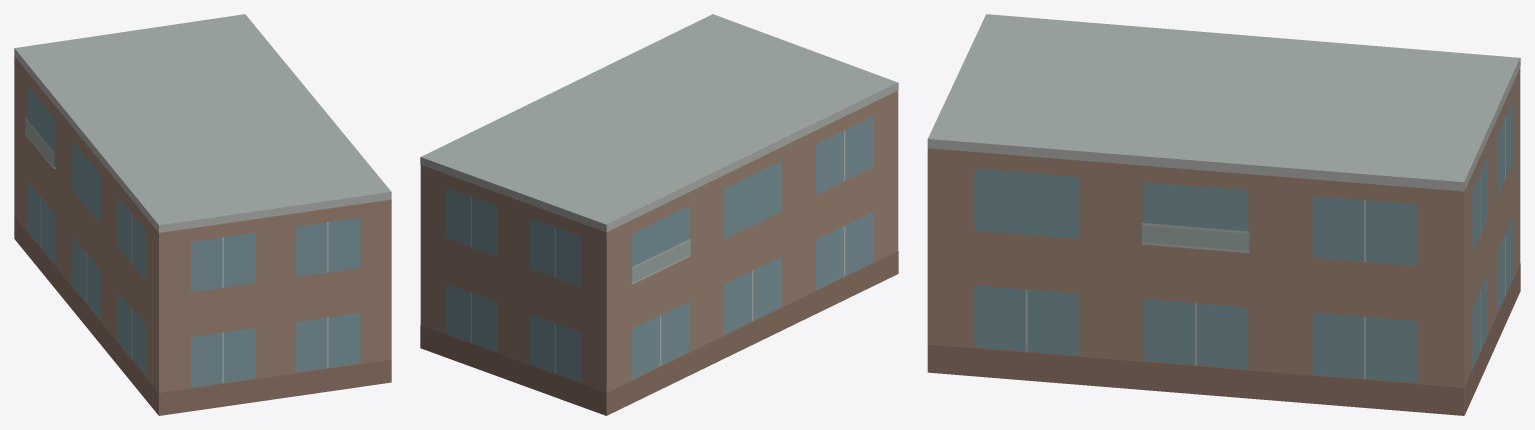
Rendered from survey-upis-32704915.glb.
3 renders of one model, left to right at view 1: azimuth 30°, elevation 25°; view 2: azimuth 150°, elevation 25°; view 3: azimuth 270°, elevation 25°, orthographic. The views are drawn at different scales.
Visible parts, largest first — view 1: survey-upis-32704915.tmp; view 2: survey-upis-32704915.tmp; view 3: survey-upis-32704915.tmp.
Part boxes in pixels (x1,y1,x2,y2): survey-upis-32704915.tmp: [14, 14, 391, 415]; survey-upis-32704915.tmp: [420, 14, 898, 415]; survey-upis-32704915.tmp: [927, 14, 1520, 415].
Bounding box in the file's own units: 9.43 × 6.1 × 14.04.
